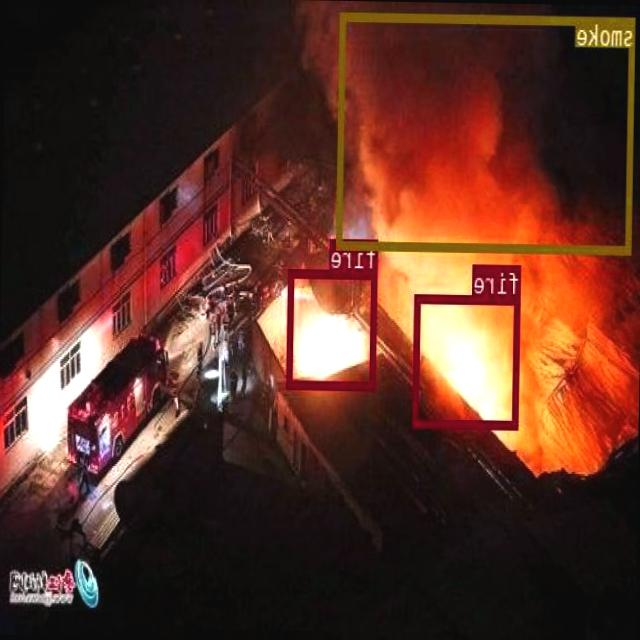fire: (414, 292, 522, 428), (287, 266, 378, 388)
smoke: (338, 11, 636, 253)
